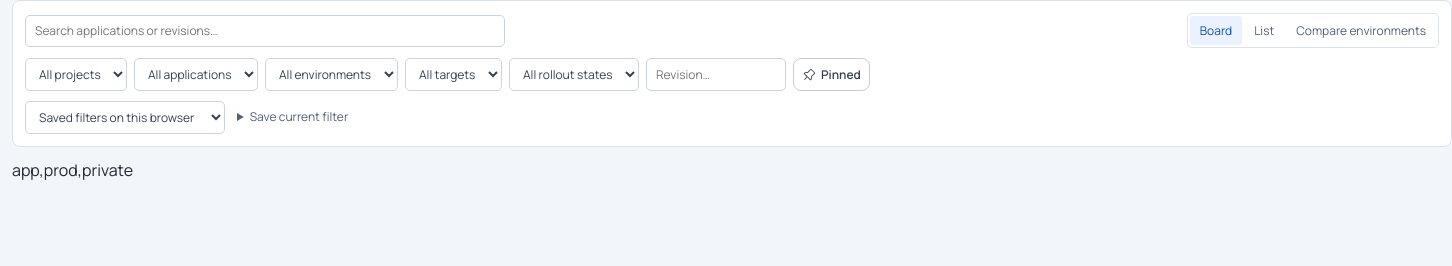
filters environments and restores named filters scoped to the current browser identity
The image size is (1452, 266).
Select "production" in the dropdown named "Filter environment" at (332, 74), box [265,58,398,91]
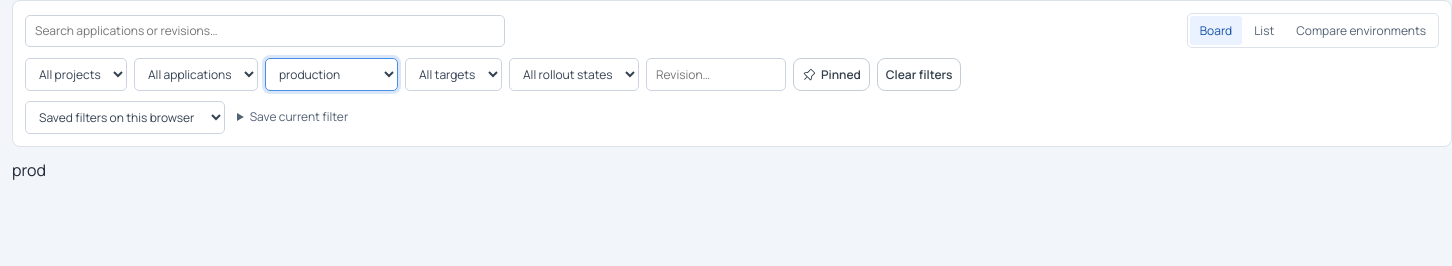
Result: the text with test id "visible" reads "prod" at [12,159,46,181]
Click the heading "Save current filter" at (299, 116), box [250,108,348,125]
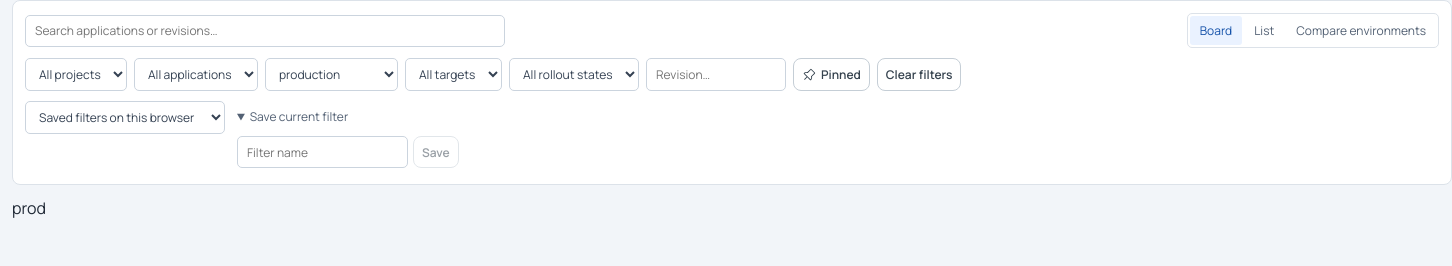
Type "Production" into the field named "Saved filter name" at (322, 152), box [237,136,408,168]
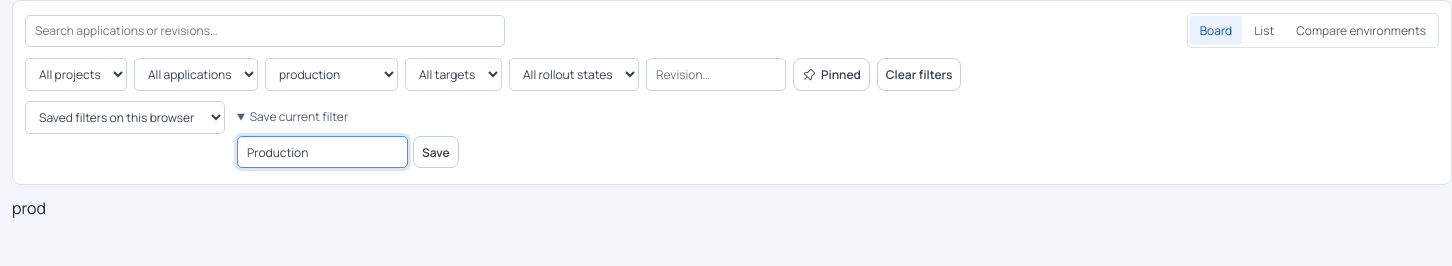
Click the button "Save" at (436, 152), box [413,136,459,168]
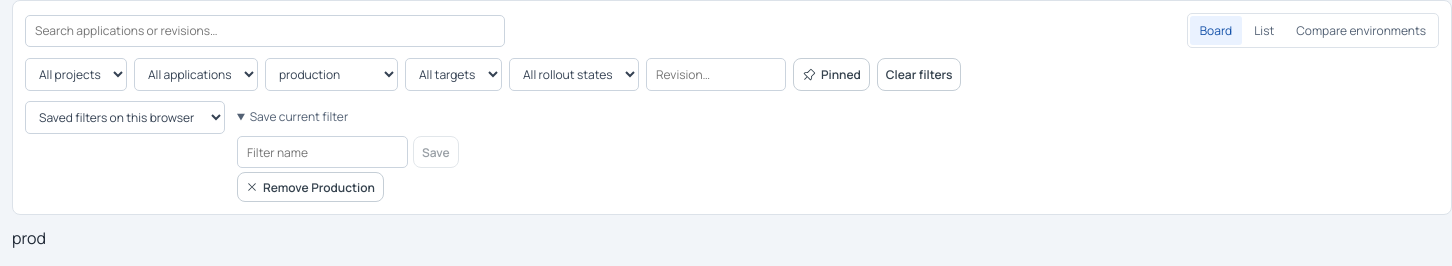
Click the button "Clear filters" at (919, 74), box [877,58,961,91]
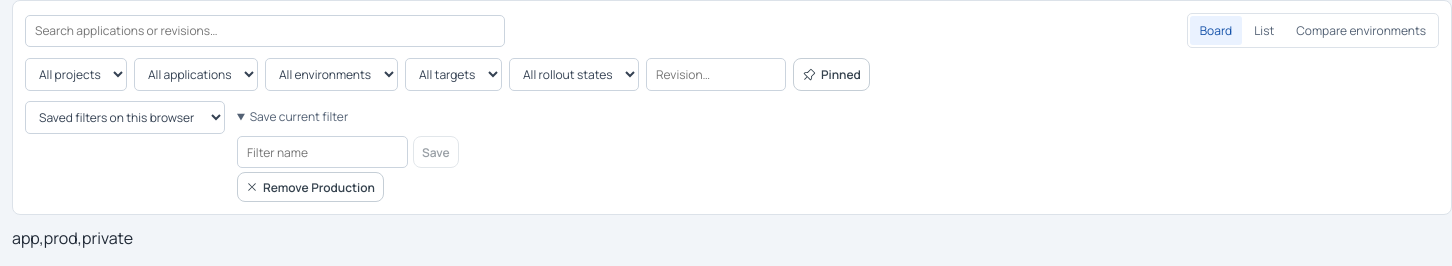
Result: the text with test id "visible" shows "app" at [12,227,133,249]
Select "Production" in the dropdown named "Saved deployment filters" at (125, 118), box [25,101,225,134]
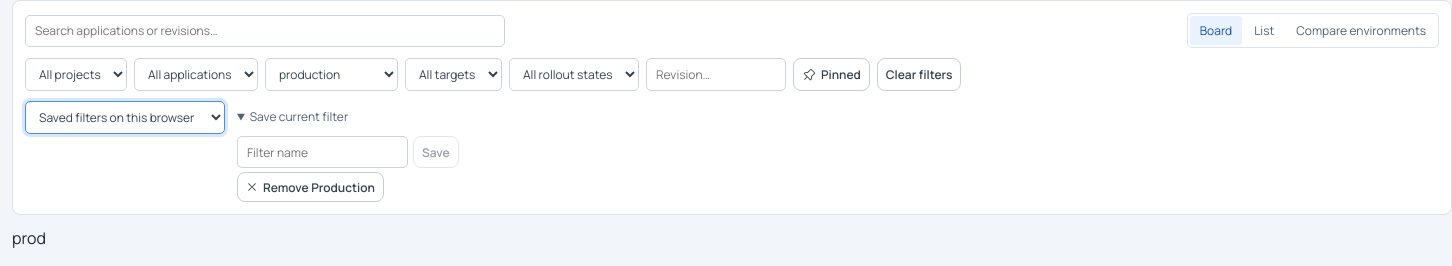
Result: the text with test id "visible" reads "prod" at [12,227,46,249]
